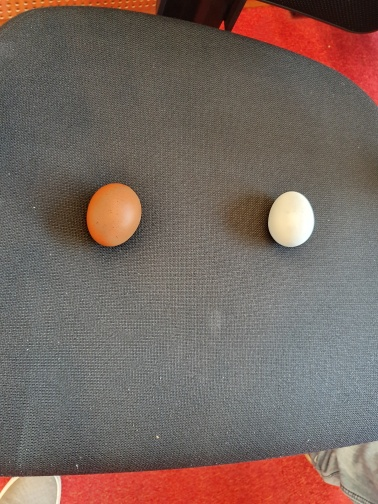egg: (85, 182, 143, 249), (267, 188, 315, 249)
